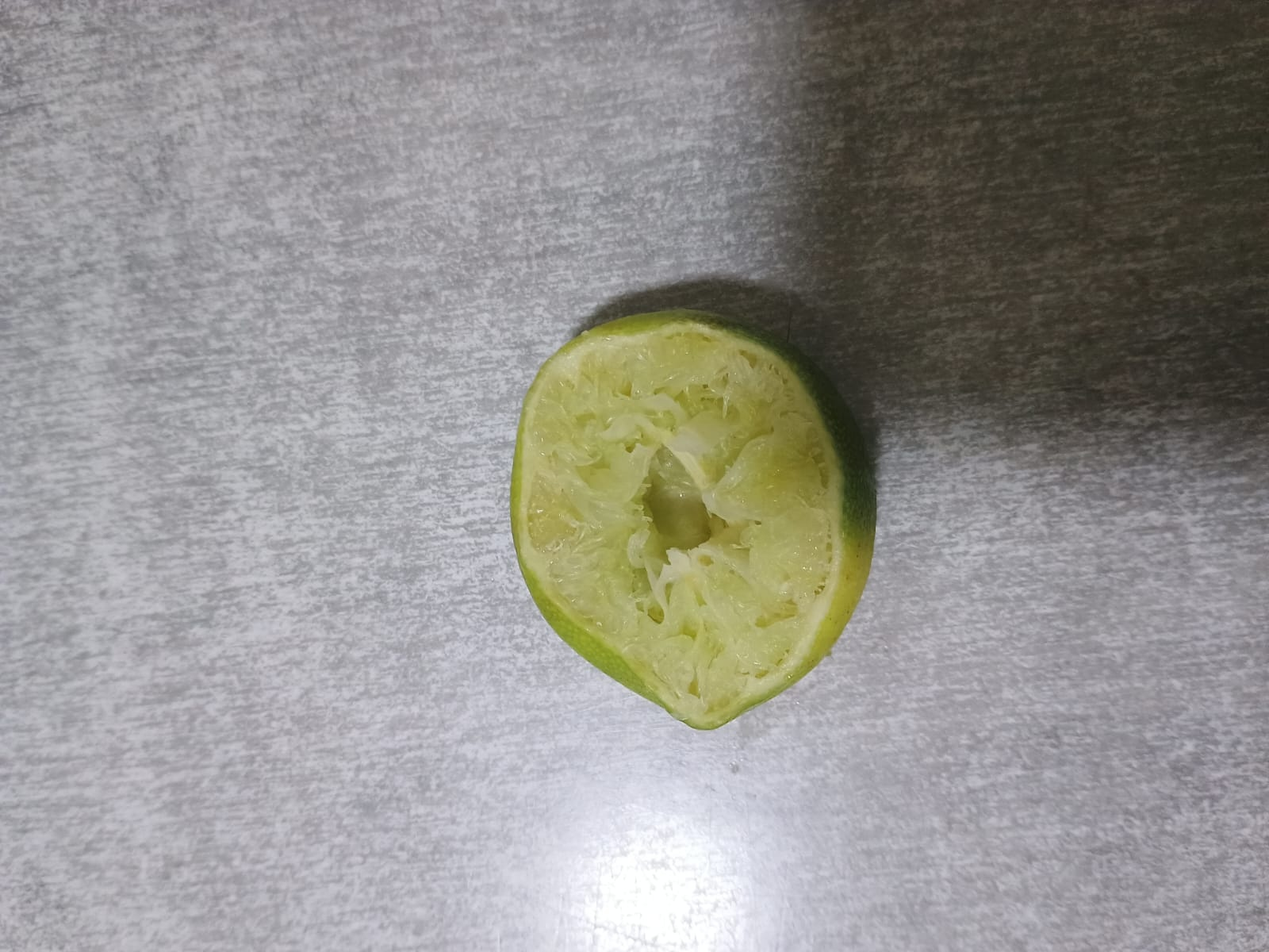Organico: (510, 308, 877, 732)
